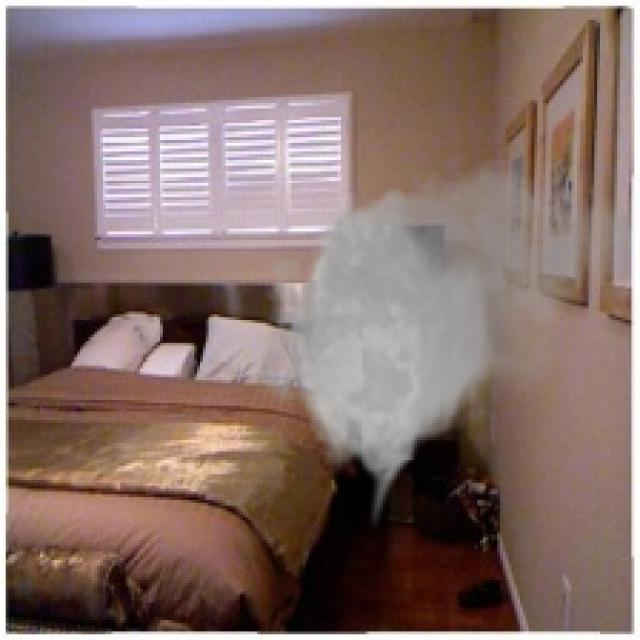Smoke: (242, 148, 634, 532)
